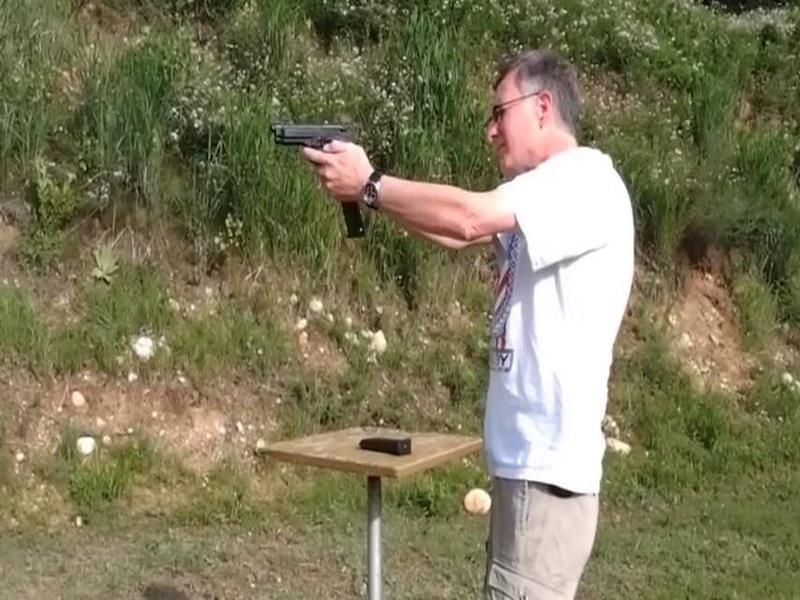Pistola: (240, 105, 392, 223)
